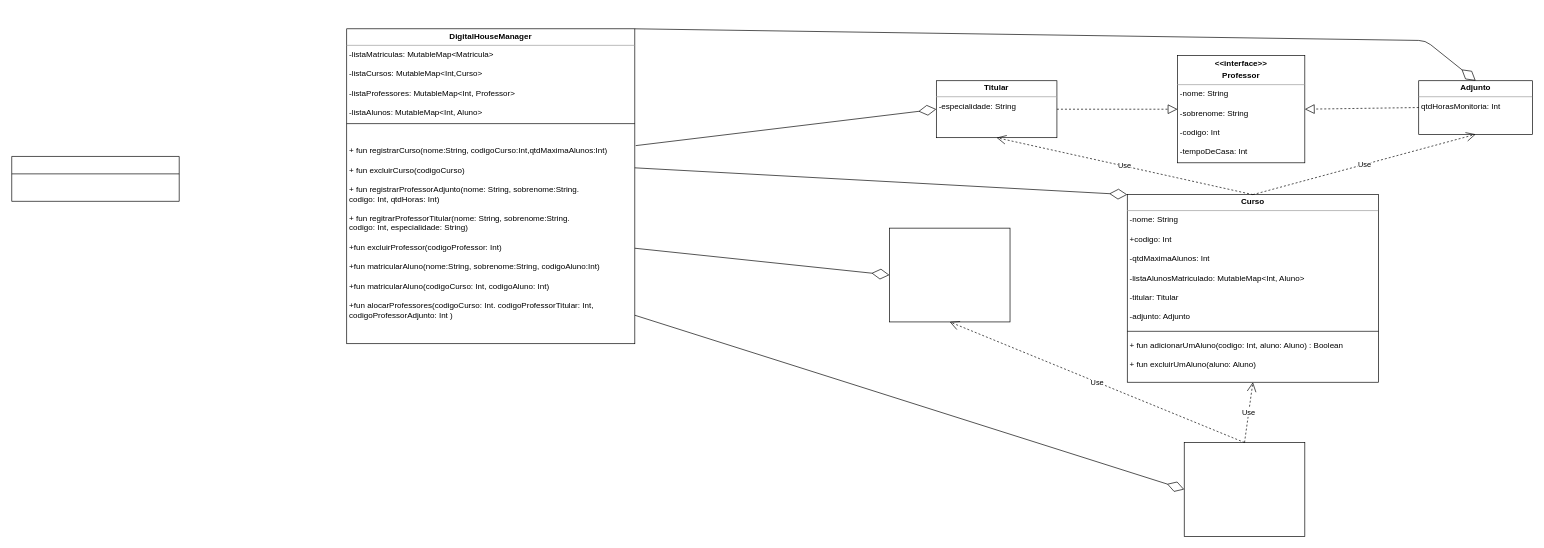
This 1544x548 diagram has some shape labels left out. Here are the shapes that lost their labels. From the top down, the centre of each, then its label:
point 95,178: Main
point 949,274: Aluno -nome: String -sobrenome: String -codigo: Int
point 1244,489: Matricula -aluno: Aluno -curso: Curso -data: Date
